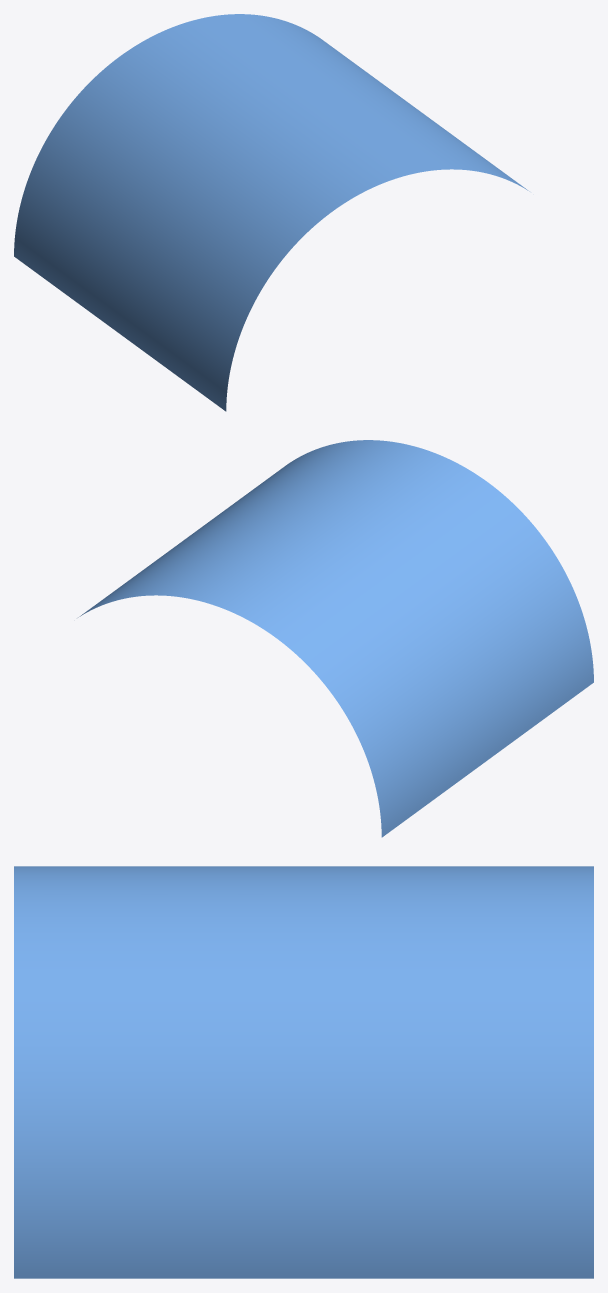
Rendered from Membrane_Strip.glb.
3 views of the same model, one above another, from view 1: azimuth 30°, elevation 25°; view 2: azimuth 150°, elevation 25°; view 3: azimuth 270°, elevation 25° (orthographic). The views are drawn at different scales.
Parts seen in each view (by area): view 1: Membrane_Strip; view 2: Membrane_Strip; view 3: Membrane_Strip.
Part boxes in pixels (x1,y1,x2,y2): Membrane_Strip: (14,14,529,411); Membrane_Strip: (78,440,593,837); Membrane_Strip: (14,866,593,1278).
Size of the model in its own units: 2 by 1 by 2.
